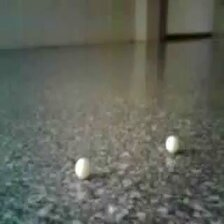w: (74, 157, 91, 178), (166, 135, 179, 153)
